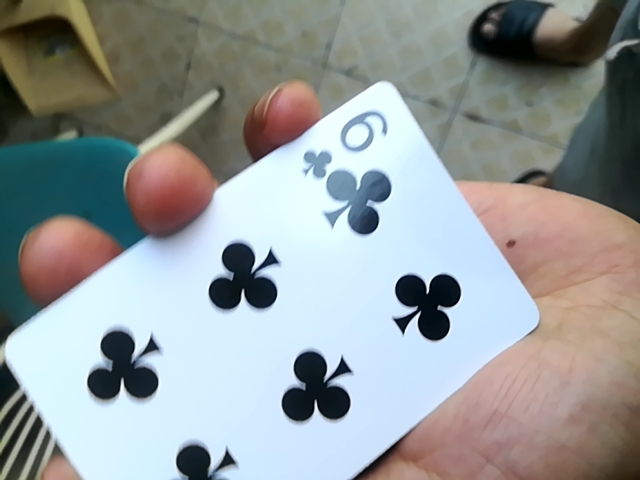mh 6: (10, 74, 545, 480)
